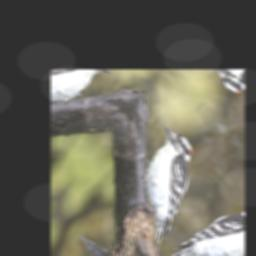Woodpecker: (106, 121, 219, 249)
